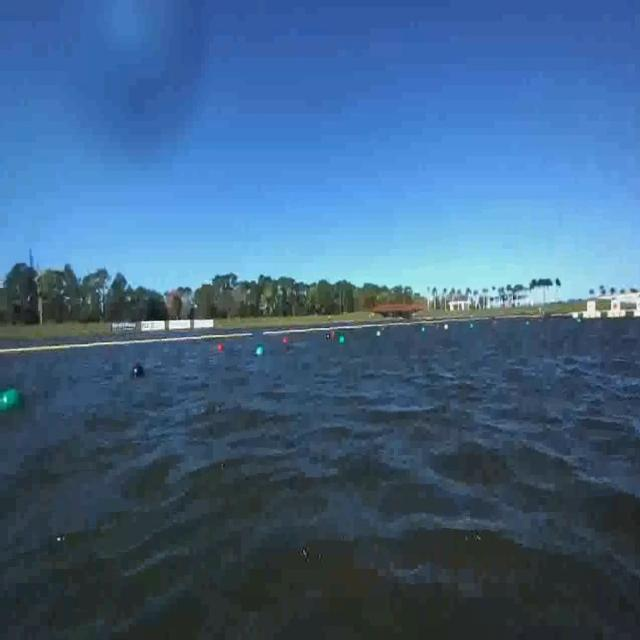black-buoy: (130, 360, 146, 384)
green-buoy: (0, 385, 23, 416)
